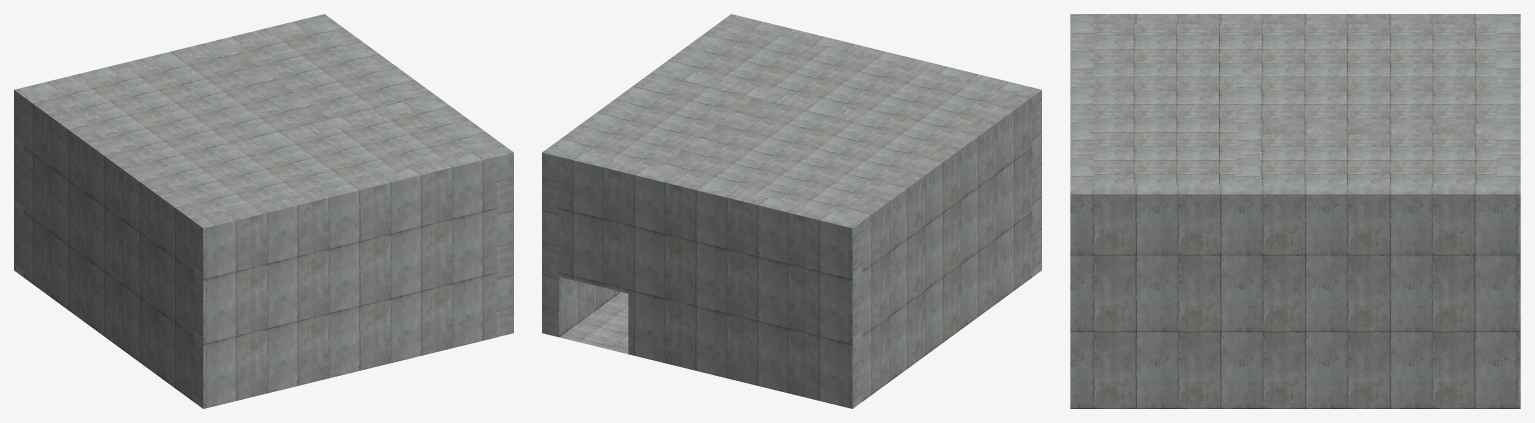
Rendered from Level_3.fbx.
3 views of the same model, side by side, from view 1: azimuth 30°, elevation 25°; view 2: azimuth 150°, elevation 25°; view 3: azimuth 270°, elevation 25° (orthographic). The views are drawn at different scales.
Parts seen in each view (by area): view 1: Ground__1_; view 2: Ground__1_; view 3: Ground__1_.
Boxes of the visible parts, left/top/right/bottom form: Ground__1_: left=14, top=14, right=513, bottom=408; Ground__1_: left=542, top=14, right=1041, bottom=408; Ground__1_: left=1070, top=14, right=1520, bottom=408.
Bounding box in the file's own units: 18 × 19 × 10.
